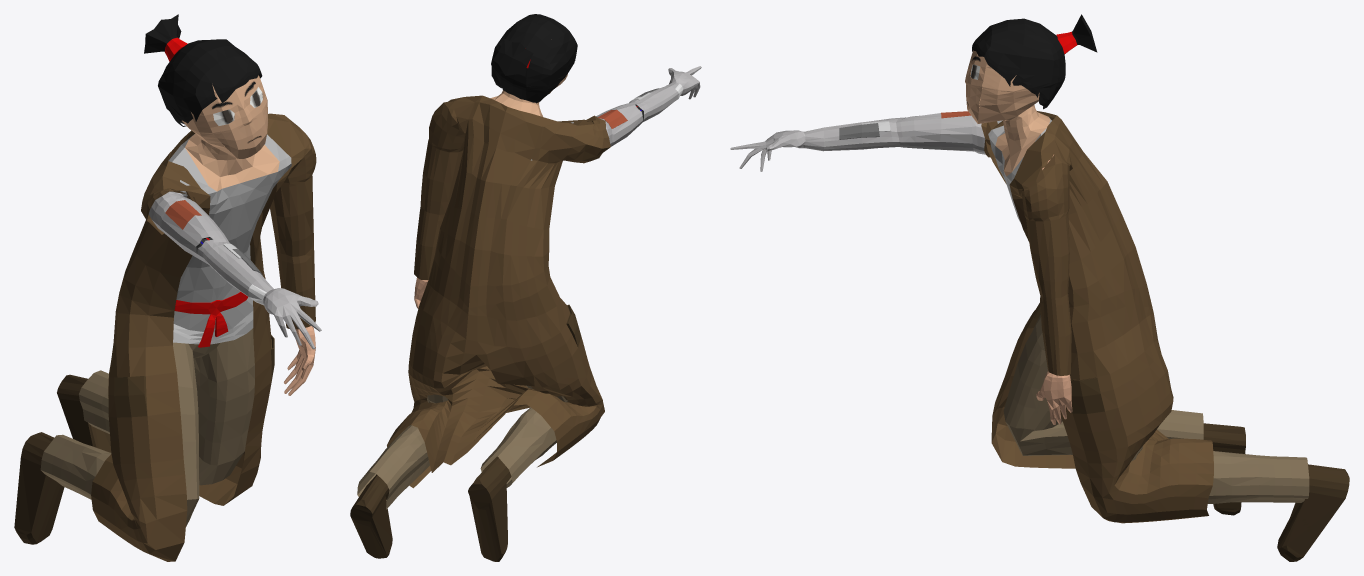
The model's file is One_Die_000036.obj.
The picture shows the model from 3 angles, left to right: view 1: azimuth 30°, elevation 25°; view 2: azimuth 150°, elevation 25°; view 3: azimuth 270°, elevation 25°; orthographic projection. The views are drawn at different scales.
Visible parts, largest first — view 1: Hair_Cube.004; view 2: Hair_Cube.004; view 3: Hair_Cube.004.
Part boxes in pixels (box(x1,y1,x2,y2)): Hair_Cube.004: box(14, 14, 321, 561); Hair_Cube.004: box(350, 14, 701, 561); Hair_Cube.004: box(730, 14, 1349, 561).
Bounding box in the file's own units: 1.13 × 3.02 × 3.24.
